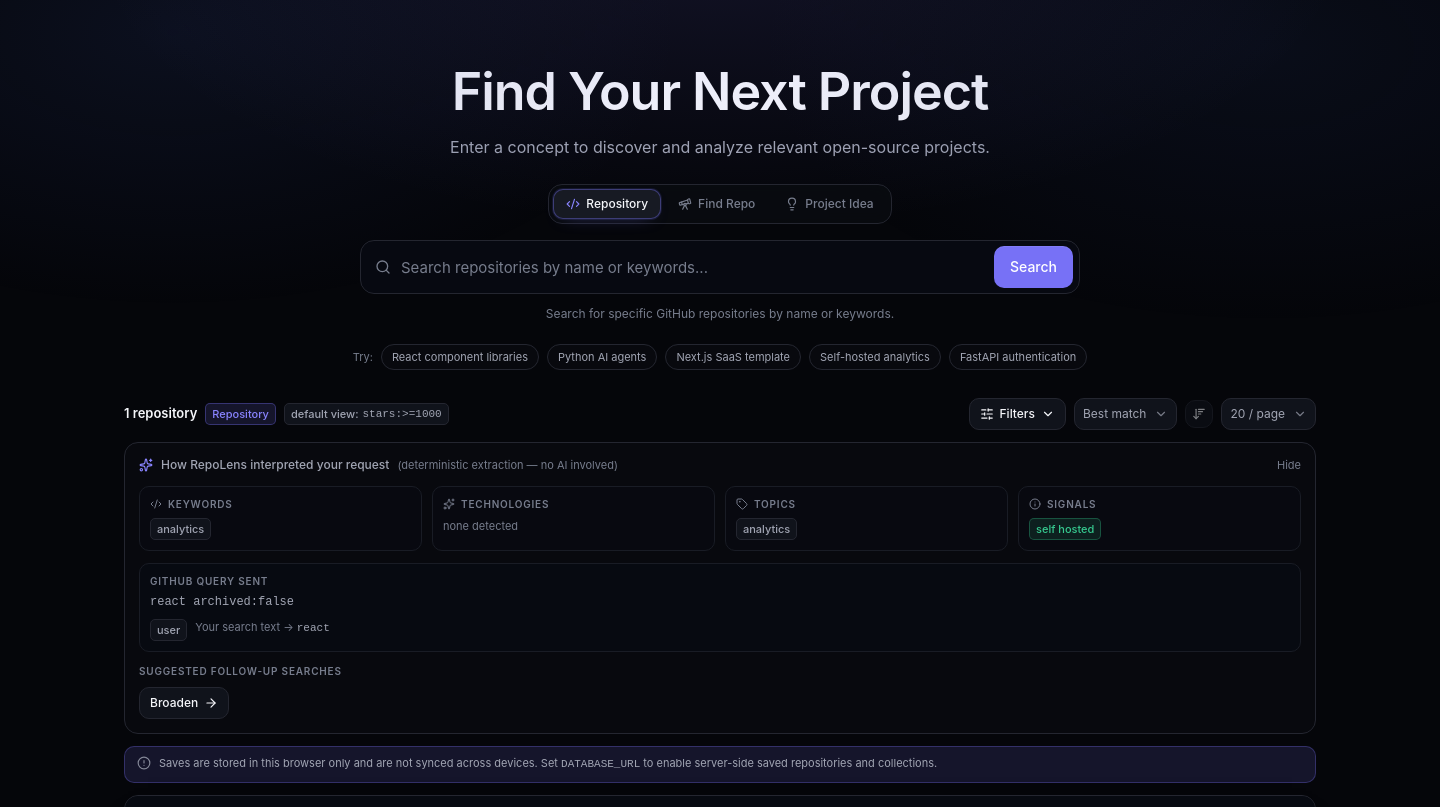
it: search experience › switching modes updates the placeholder, helper text and the mode sent to the API
Expected: the heading "1 repository" is shown, x1=124 y1=404 x2=197 y2=424
Click the tab with aria-label "project idea mode": point(830, 204) x1=772 y1=189 x2=887 y2=219
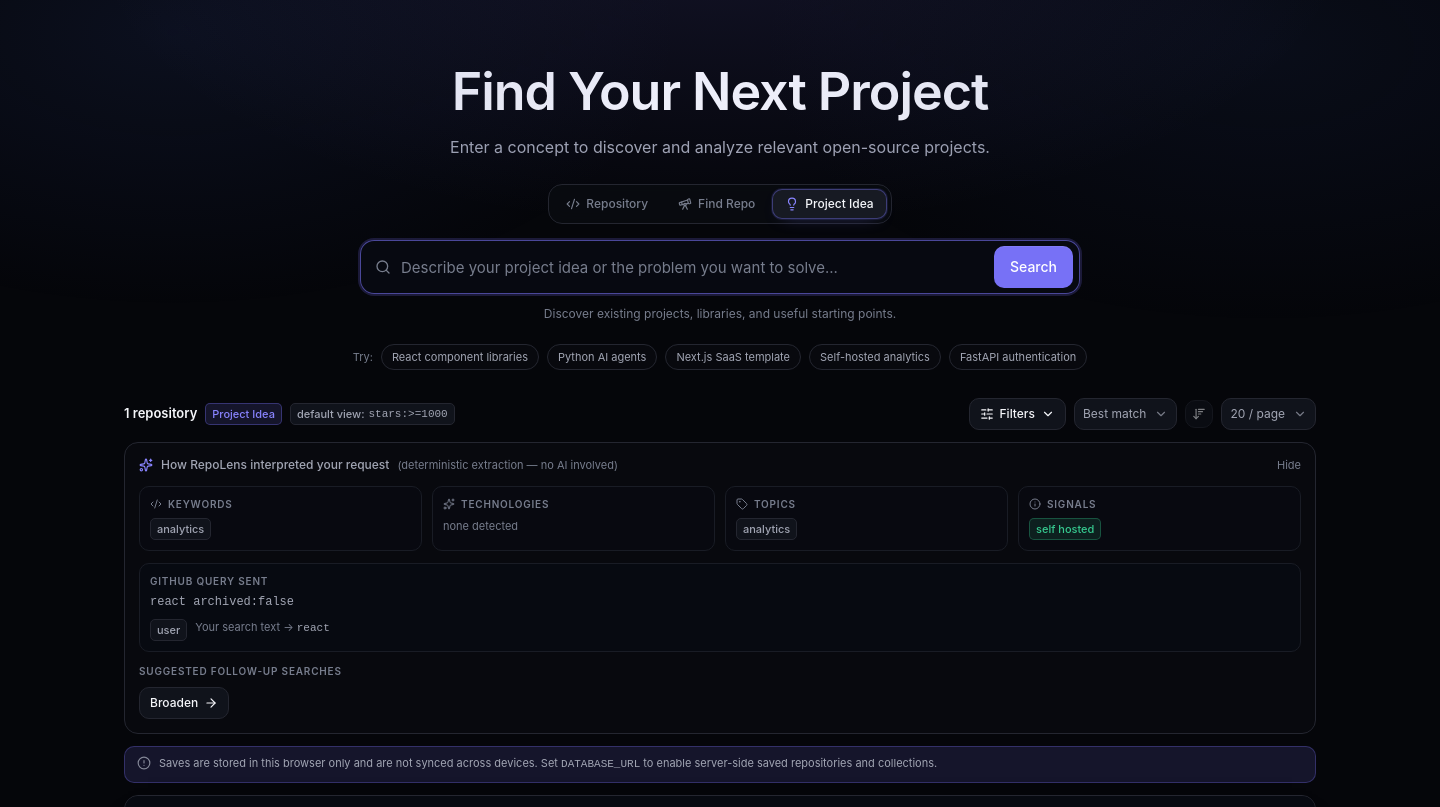
Expected: the text "How RepoLens interpreted your request" is shown, x1=161 y1=457 x2=389 y2=472
Now the search field with placeholder "Describe your project idea or the problem you want to solve..." is shown, box x1=361 y1=241 x2=1079 y2=293
Now the text "Discover existing projects, libraries, and useful starting points." is shown, box x1=544 y1=304 x2=896 y2=324
